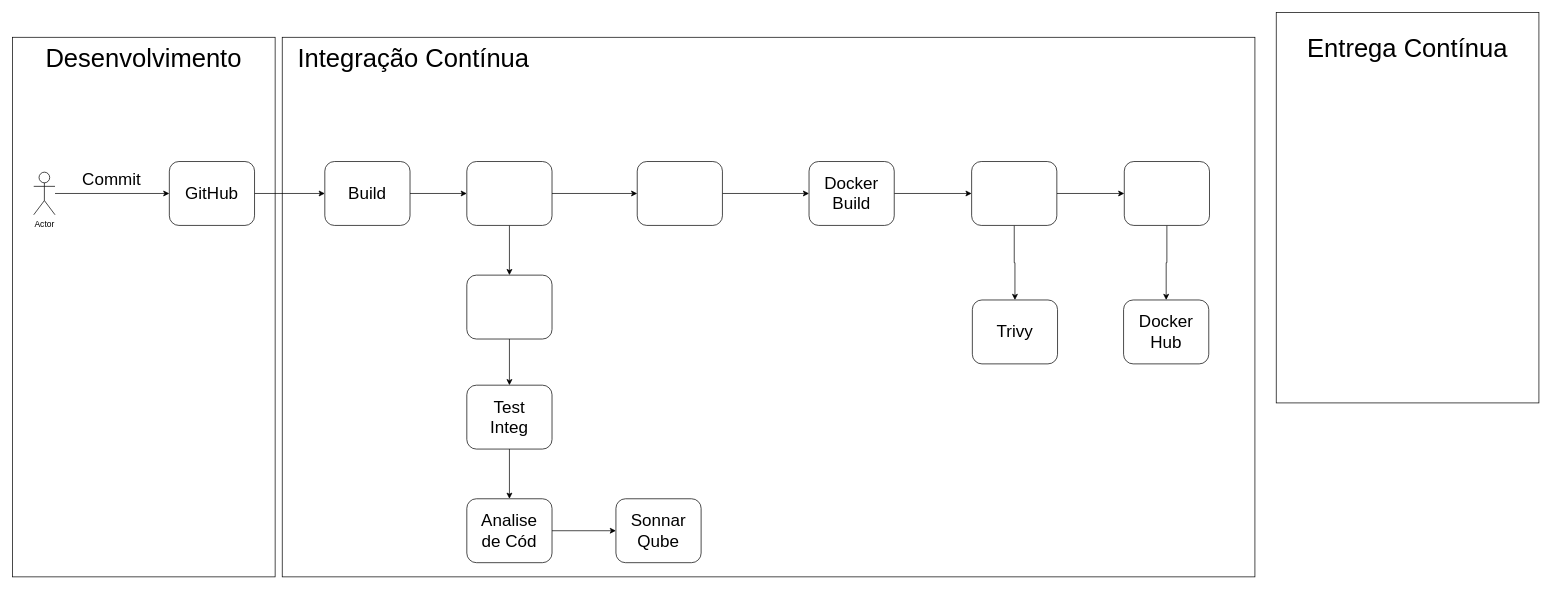
Some shapes in this 1551 by 589 pixel diagram are drawn without their labels. Each missing label, with the box of its shape:
Docker Lint: (637, 161, 722, 225)
Docker Push: (1124, 161, 1209, 225)
Scan Qualidade: (971, 161, 1057, 225)
Test Unit: (466, 274, 552, 339)
Test/QA: (466, 161, 552, 225)
